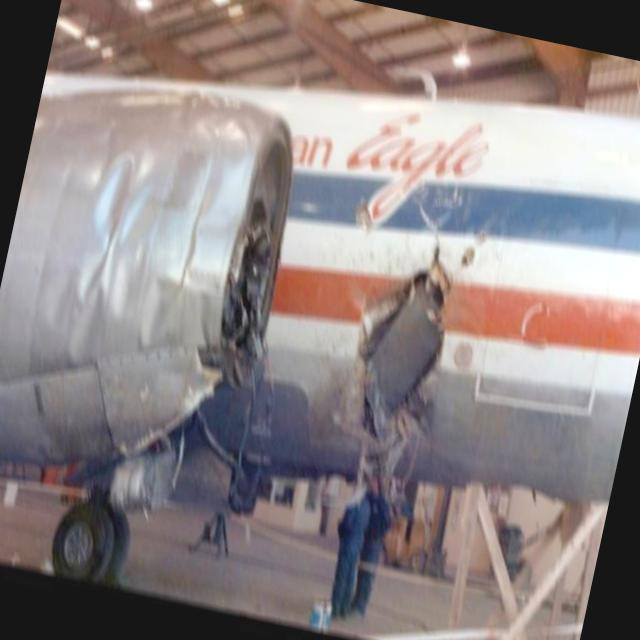dent: (84, 148, 143, 255), (59, 280, 118, 378), (71, 214, 119, 310), (136, 273, 176, 349), (108, 253, 145, 317)
